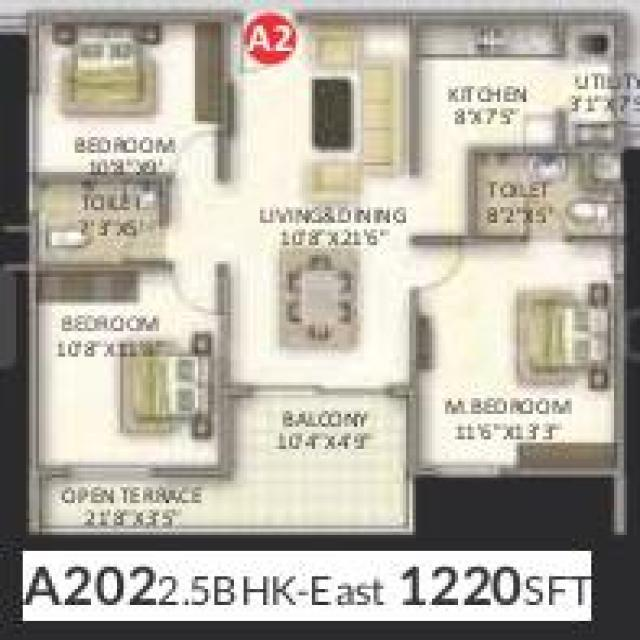Balcony-Sitout: (224, 382, 417, 534)
Bedroom: (28, 263, 232, 479), (29, 4, 231, 181)
Bedroom with Toilet: (406, 139, 630, 476)
Dining: (265, 233, 369, 368)
Kitchen: (409, 11, 626, 152)
Living: (230, 3, 408, 200)
Toilet: (464, 145, 624, 244), (30, 173, 173, 272)
